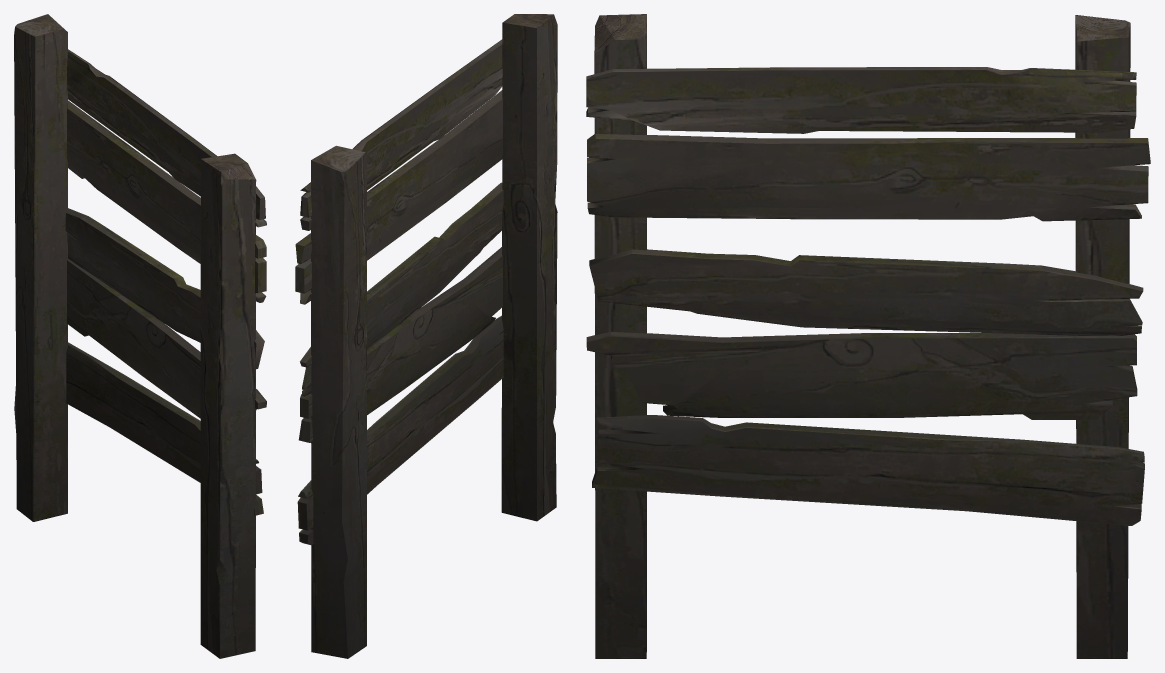
Rendered from wood_wall001.fbx.
3 renders of one model, left to right at view 1: azimuth 30°, elevation 25°; view 2: azimuth 150°, elevation 25°; view 3: azimuth 270°, elevation 25°, orthographic. The views are drawn at different scales.
Visible parts, largest first — view 1: wood_wall001; view 2: wood_wall001; view 3: wood_wall001.
Boxes of the visible parts, x1,y1,x2,y2 form: wood_wall001: (14,14,266,658); wood_wall001: (295,14,557,658); wood_wall001: (586,14,1150,658).
Bounding box in the file's own units: 30.32 × 320 × 263.
